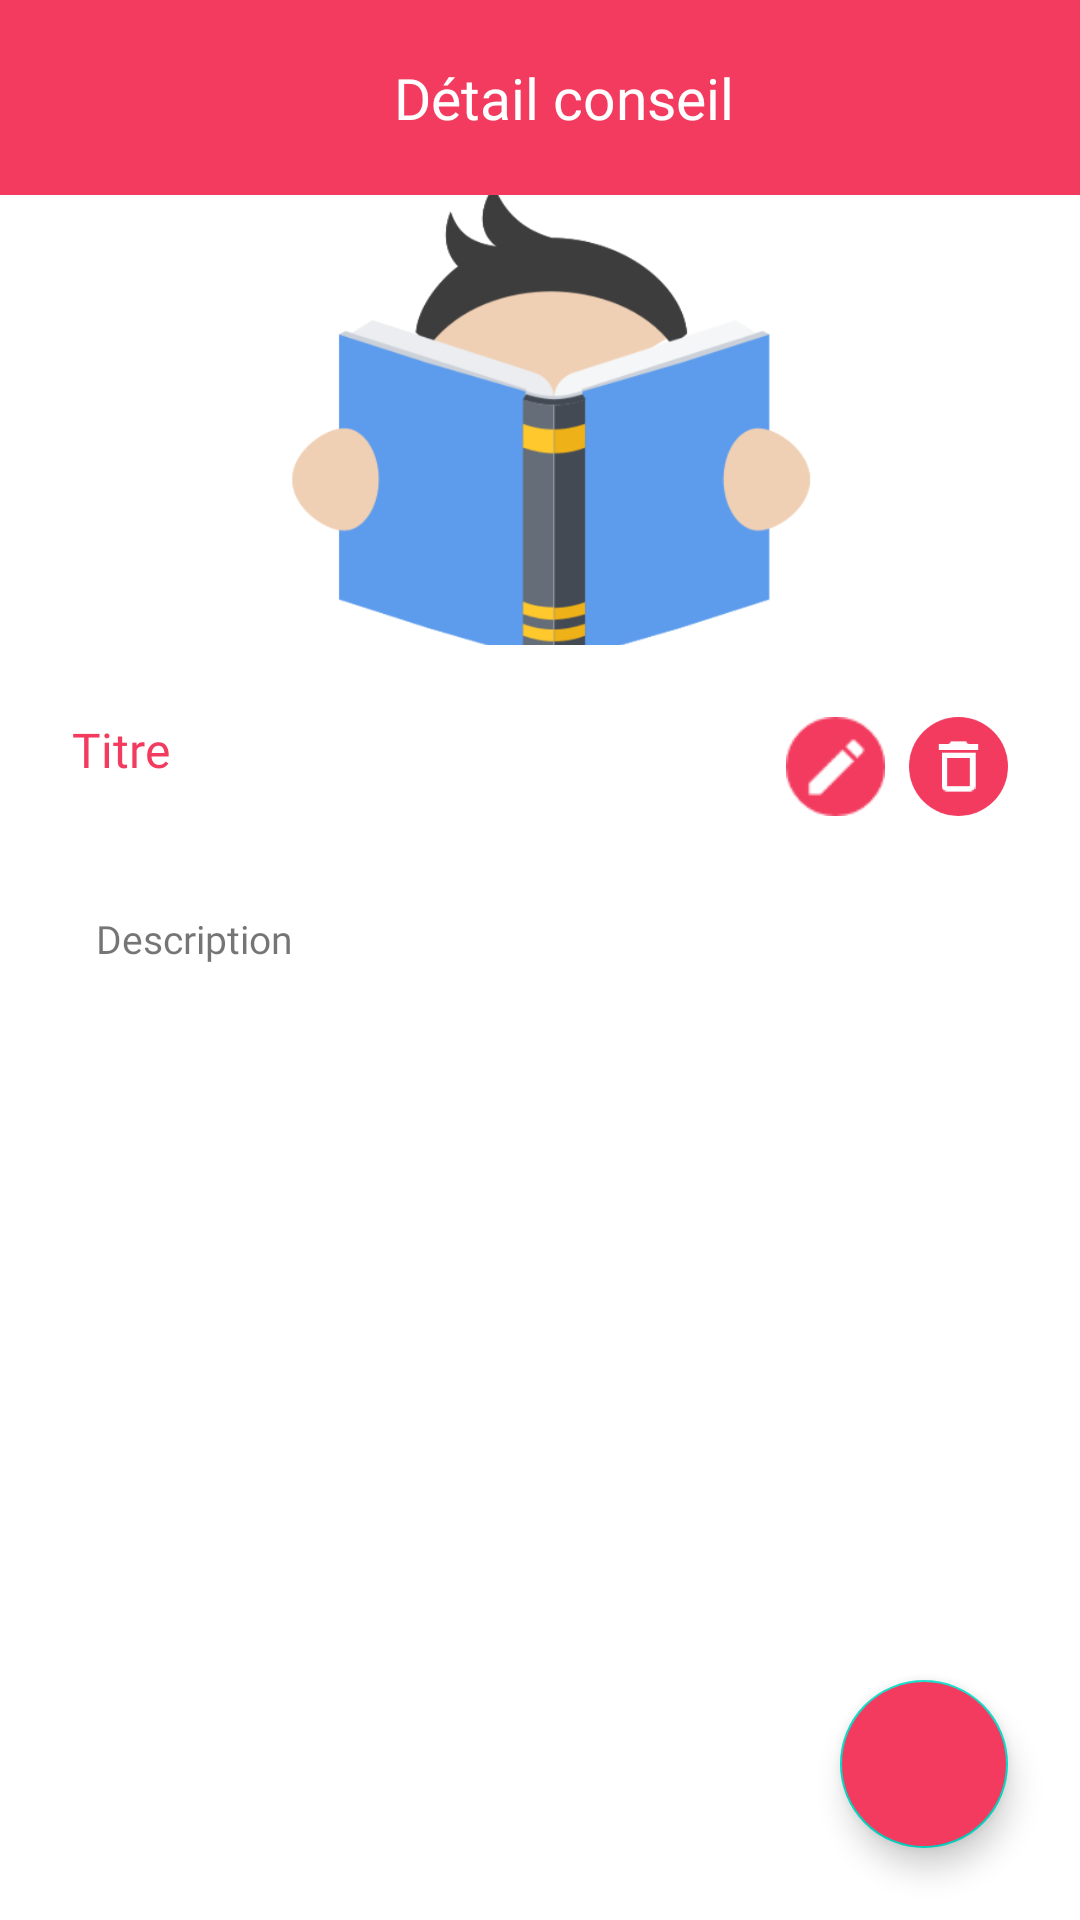

Icon bounding boxes for this 1080*1920 phone screenshot, format (x1, y1, x2, y2):
deletepink: (909, 717, 1008, 816)
editgroupe: (786, 717, 885, 816)
